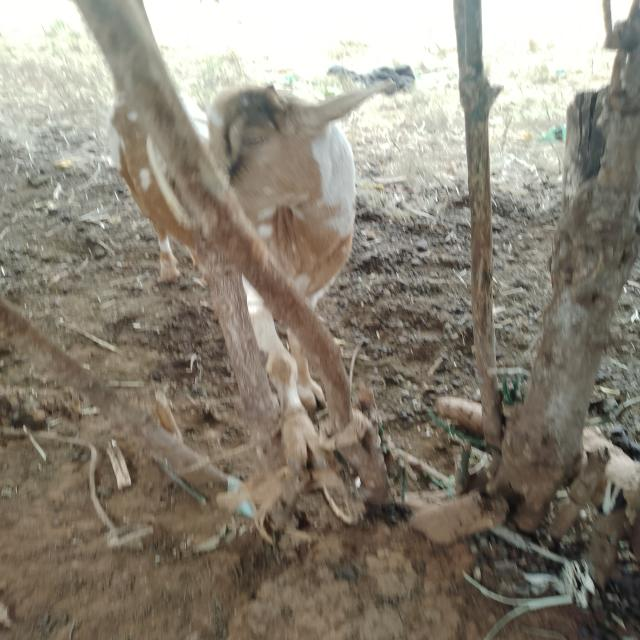goat: (50, 39, 462, 502)
